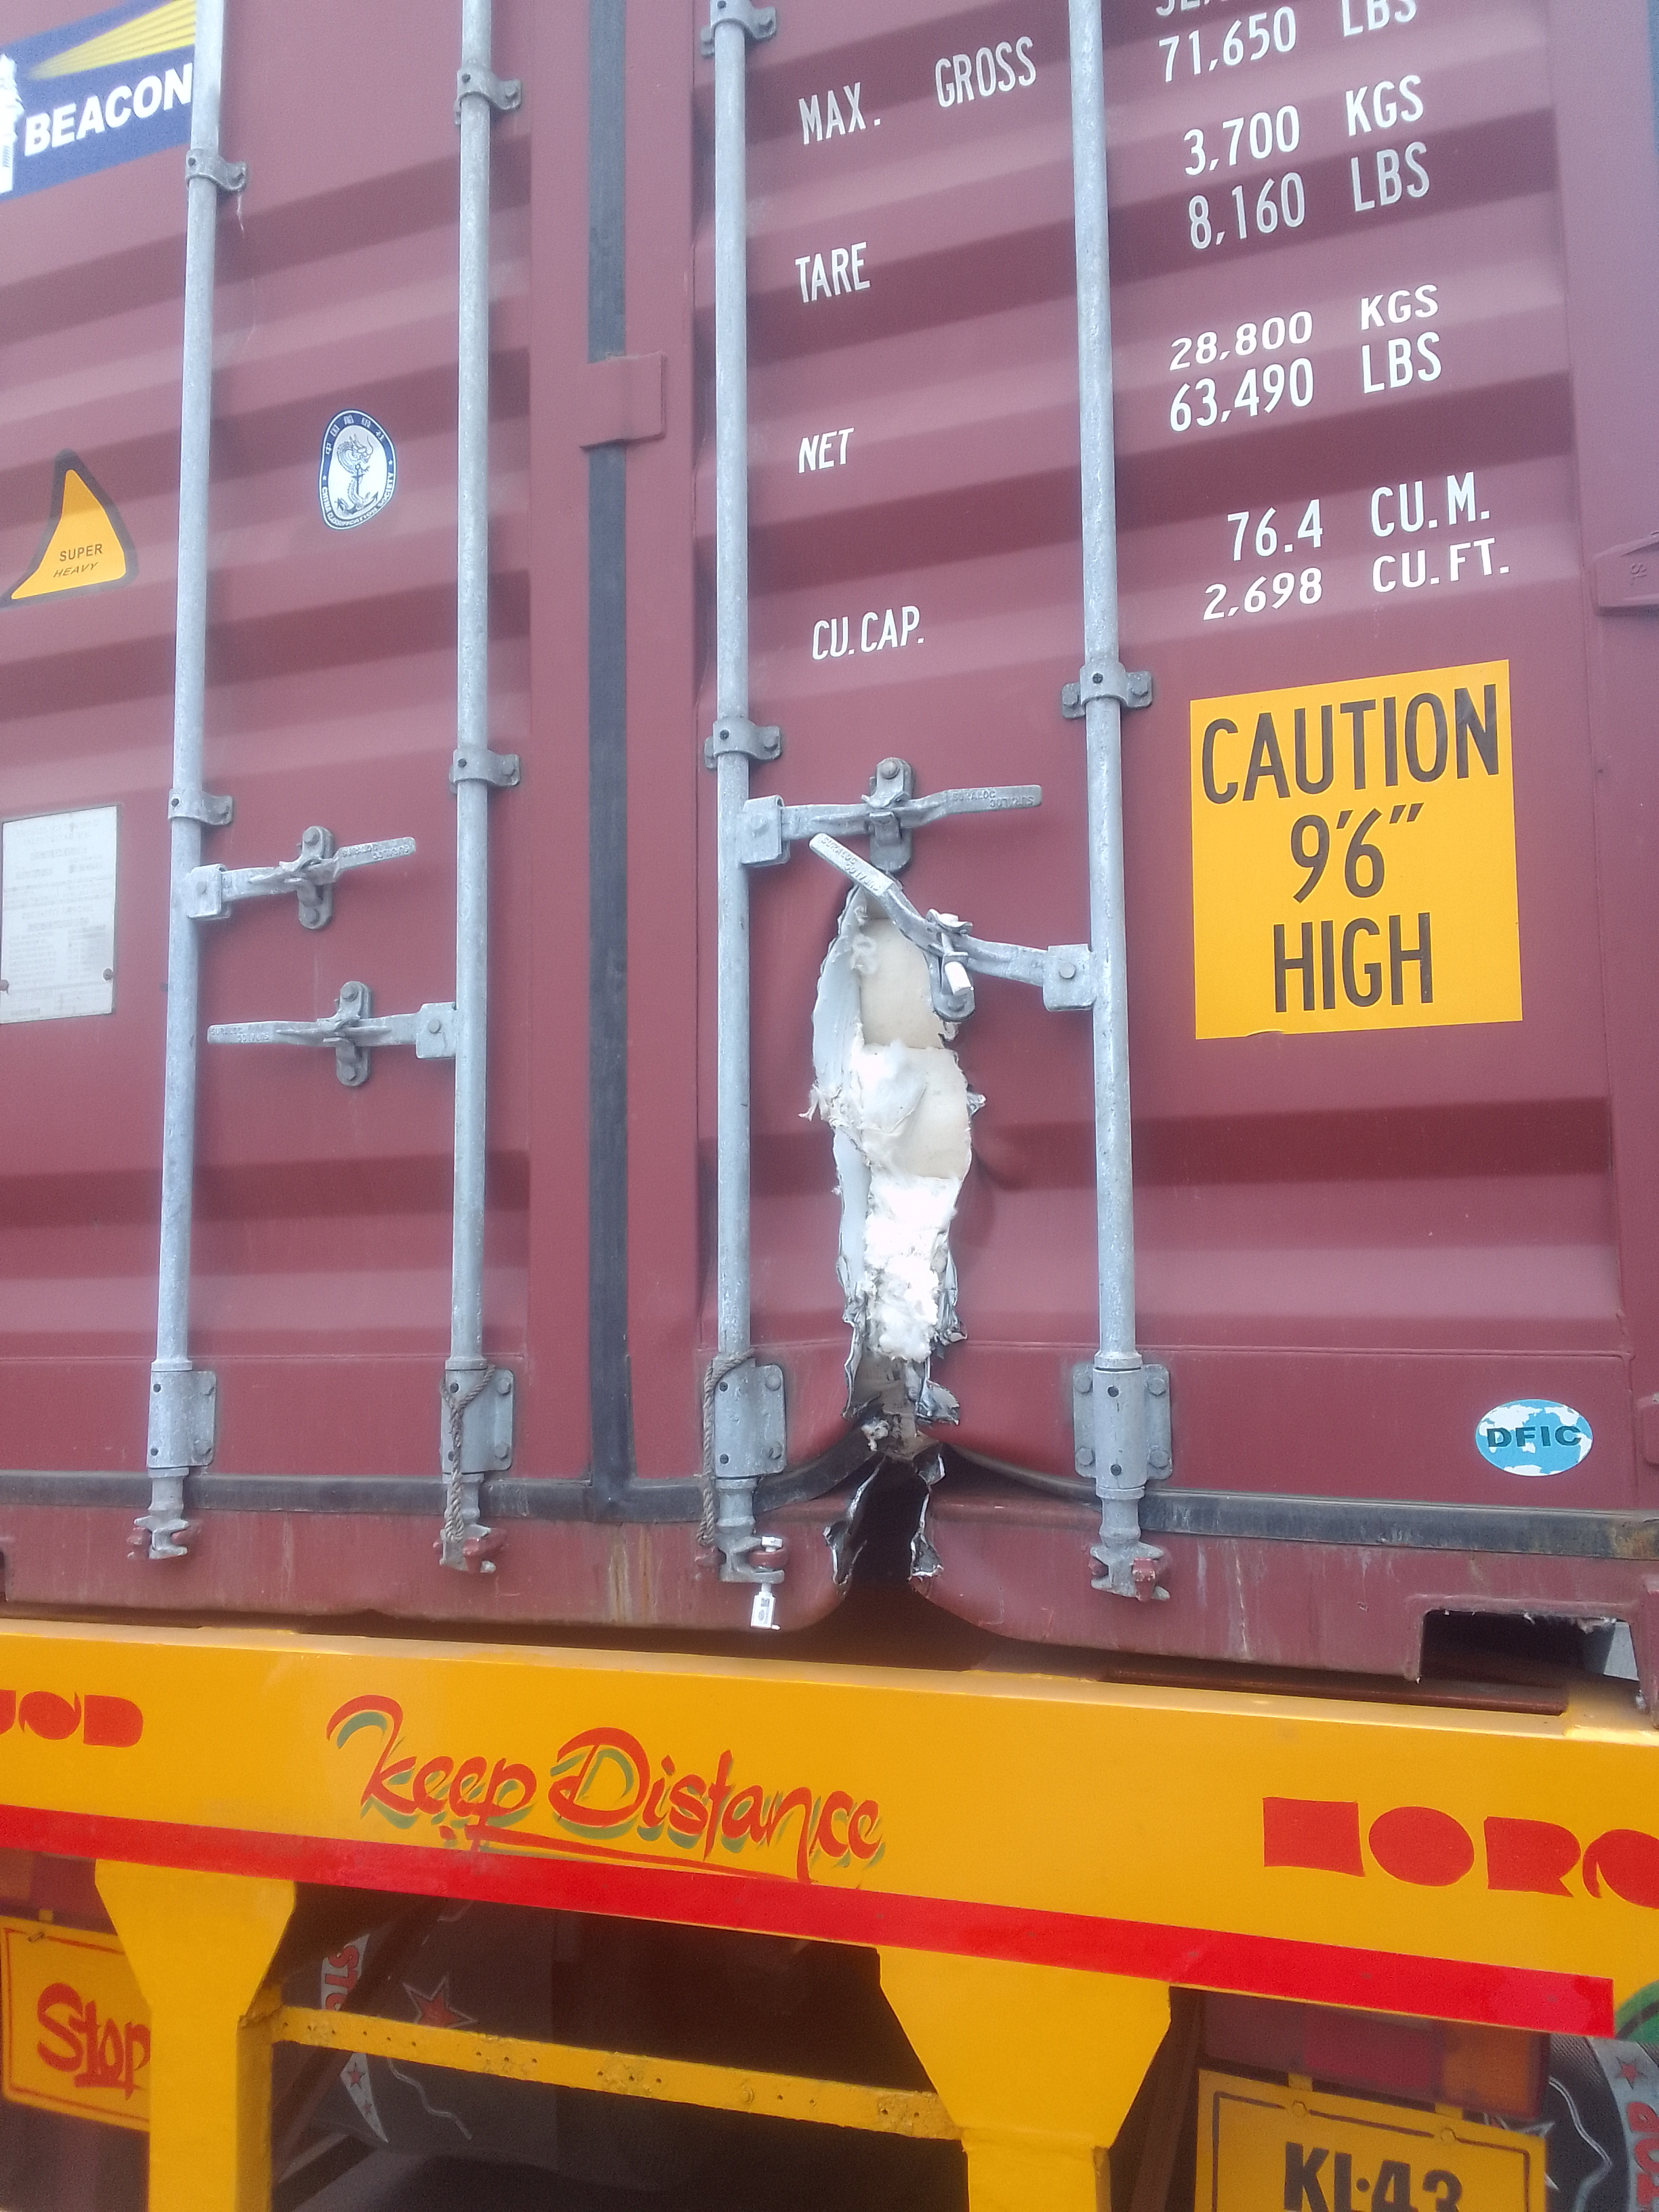cut: (744, 843, 1002, 1548)
